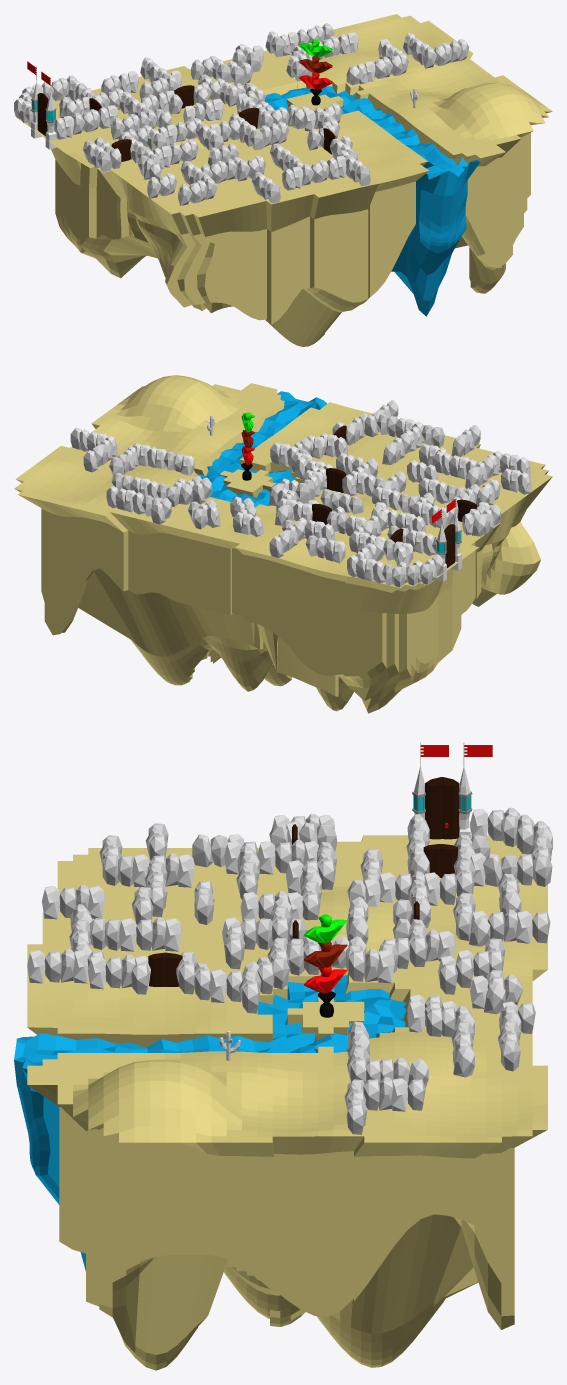
The model's file is ile été.FBX.
The picture shows the model from 3 angles, top to bottom: view 1: azimuth 30°, elevation 25°; view 2: azimuth 150°, elevation 25°; view 3: azimuth 270°, elevation 25°; orthographic projection. The views are drawn at different scales.
Visible parts, largest first — view 1: Ile été, PillierG; view 2: Ile été, PillierG; view 3: Ile été, PillierG, PorteD, PorteG.
Part boxes in pixels (box(x1,y1,x2,y2)): Ile été: box(16, 14, 552, 346); PillierG: box(27, 61, 56, 149); Ile été: box(14, 375, 552, 713); PillierG: box(432, 497, 461, 581); Ile été: box(14, 835, 547, 1370); PillierG: box(412, 742, 492, 838); PorteD: box(442, 777, 459, 839); PorteG: box(425, 777, 442, 839).
Size of the model in its own units: 492 by 313 by 363.
